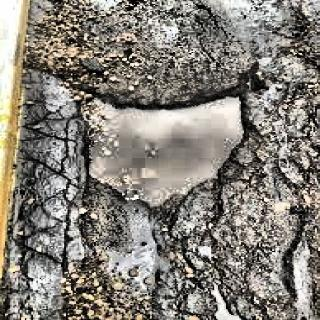alligator-crack: (27, 69, 74, 312)
pothole: (50, 64, 266, 222)
